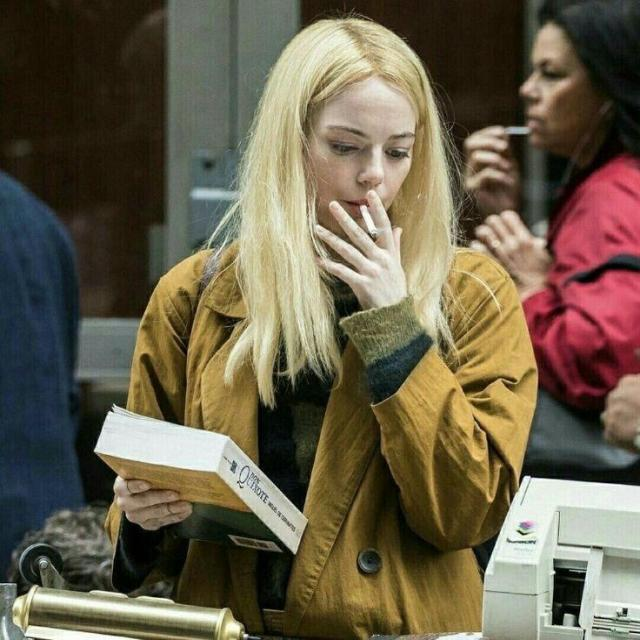cigarette: (354, 196, 391, 254)
